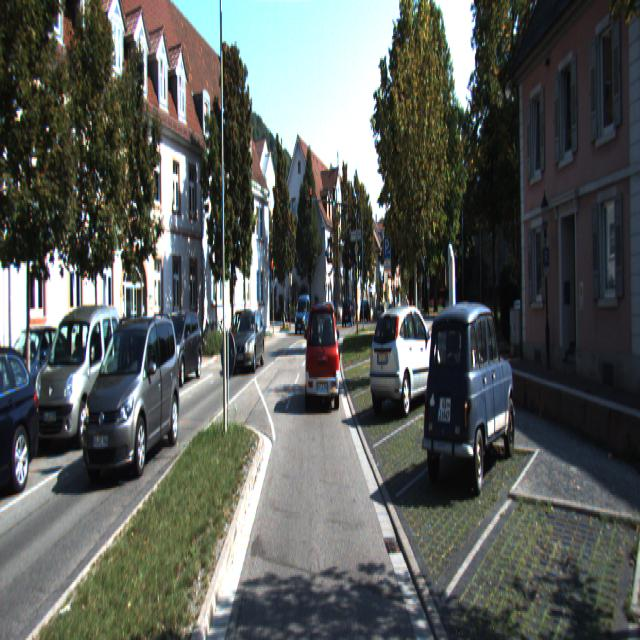Car: (419, 297, 519, 502), (81, 310, 182, 480), (35, 303, 124, 455), (369, 302, 441, 413), (0, 337, 44, 501), (84, 313, 146, 390), (154, 309, 204, 387), (306, 304, 341, 411), (231, 309, 266, 372), (225, 310, 258, 358), (294, 294, 311, 336), (342, 298, 355, 327)
